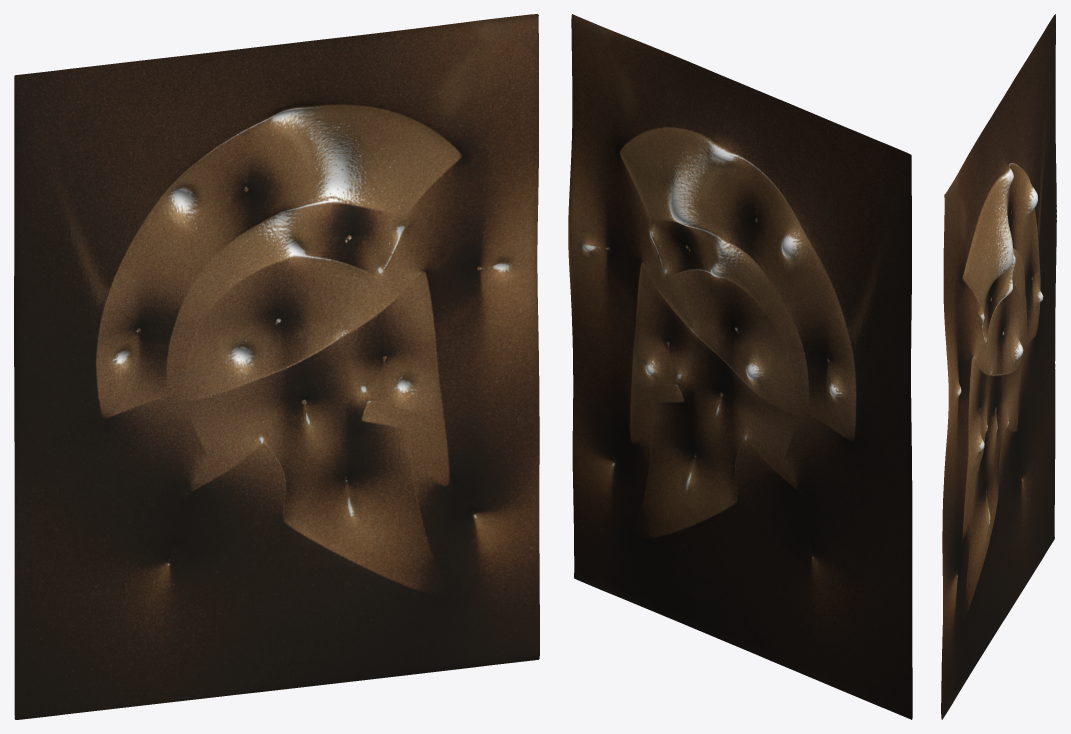
The model's file is opera.glb.
The picture shows the model from 3 angles, left to right: view 1: azimuth 30°, elevation 25°; view 2: azimuth 150°, elevation 25°; view 3: azimuth 270°, elevation 25°; orthographic projection. The views are drawn at different scales.
Visible parts, largest first — view 1: Plane; view 2: Plane; view 3: Plane.
Part boxes in pixels (x1,y1,x2,y2): Plane: [14, 14, 539, 719]; Plane: [568, 14, 912, 719]; Plane: [941, 14, 1056, 719].
Size of the model in its own units: 1.47 by 1.98 by 0.3943.
1 material, 1 textured.
